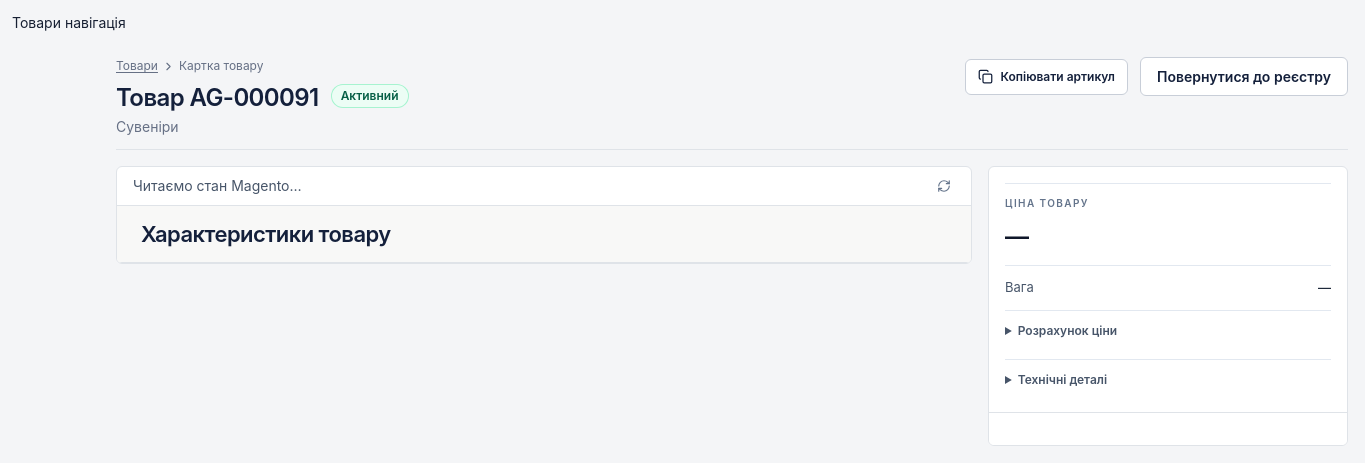
Test: clears an opened product after accepted navigation back to the Products landing
Expected: the heading "Товар AG-000091" is shown, [116,83,319,113]
Click the link "Товари навігація" at point(69, 22), box [12,14,126,31]
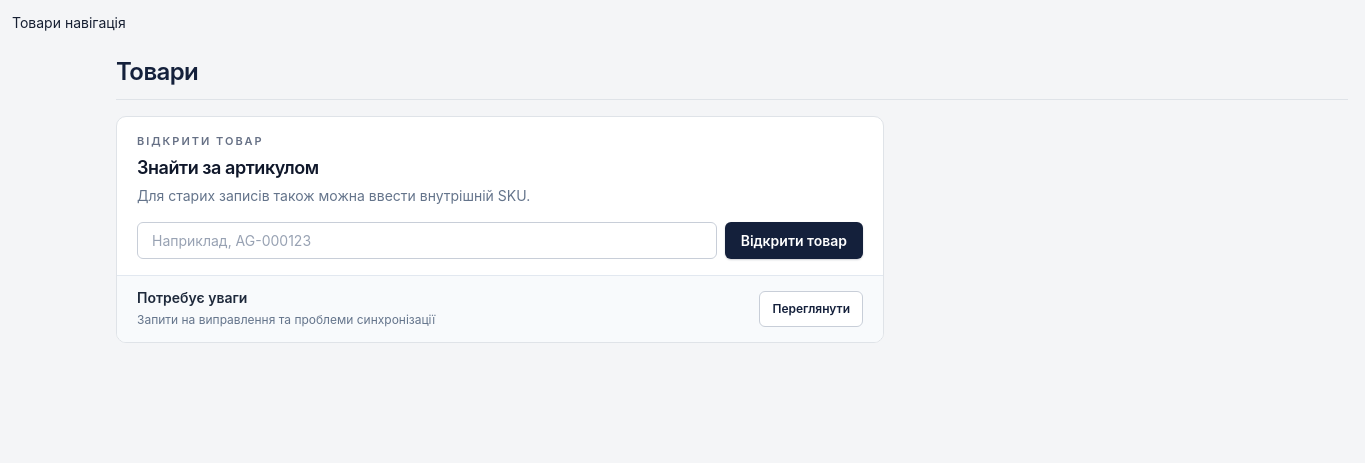
Expected: the heading "Знайти за артикулом" is shown, [137,156,319,178]
Expected: the heading "AG-000091" is gone
